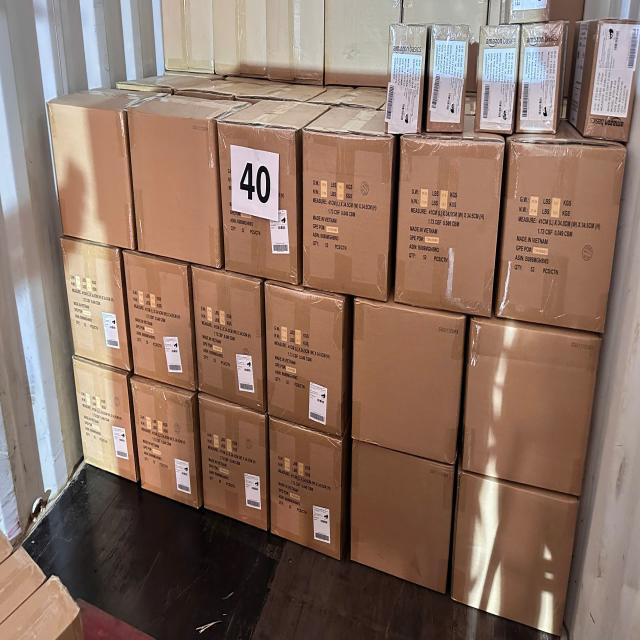Carton: (464, 317, 606, 495), (507, 143, 625, 333), (454, 471, 578, 633), (355, 297, 463, 463), (400, 142, 496, 316), (128, 110, 222, 273), (353, 442, 449, 593), (303, 128, 387, 297), (218, 120, 300, 280), (47, 104, 135, 253), (267, 283, 342, 433), (191, 266, 265, 416), (268, 416, 342, 561), (124, 251, 196, 392), (198, 396, 268, 534), (61, 239, 131, 373), (130, 378, 200, 508), (72, 358, 136, 484)
